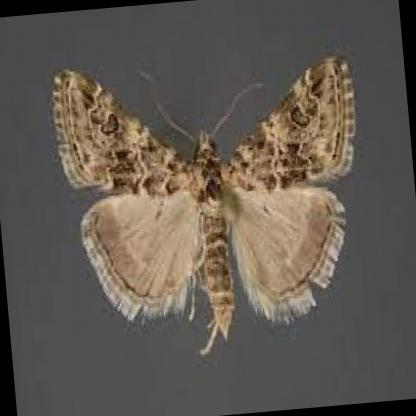Hellula undalis: (46, 43, 362, 362)
